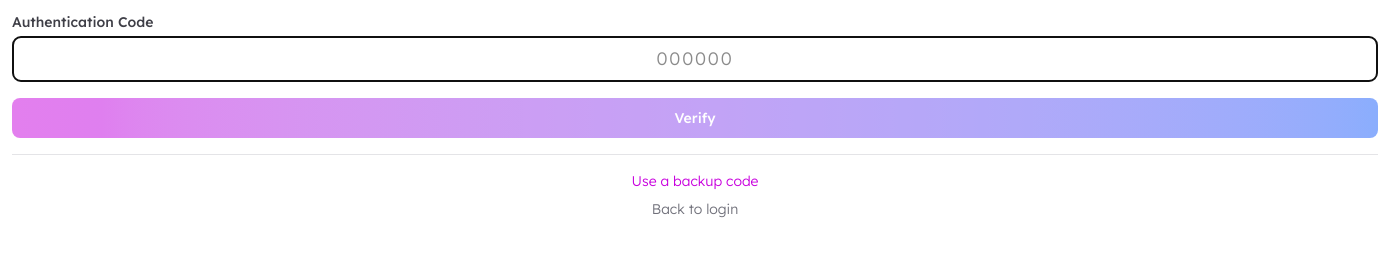
Scenario: TwoFactorForm › switches between modes correctly
Expected: the field with test id "totp-input" is shown, [12,36,1378,82]
Note: Switch to backup
Click the button with test id "switch-to-backup" at (695, 181), box [12,171,1378,191]
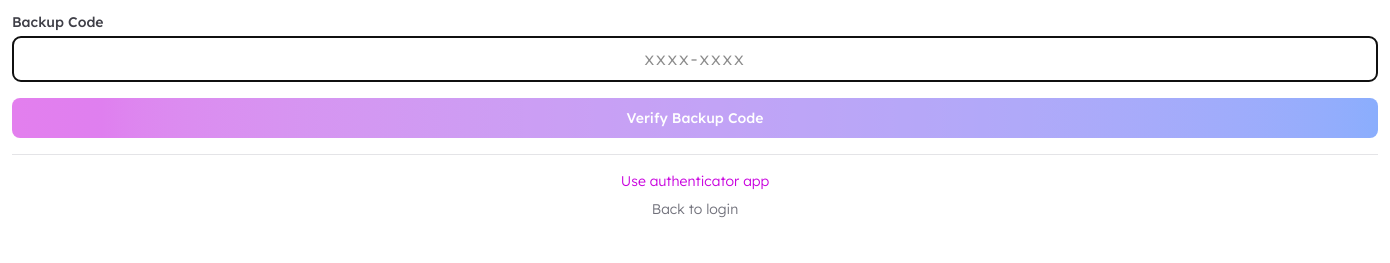
Expected: the field with test id "backup-code-input" is shown, [12,36,1378,82]
Expected: the field with test id "totp-input" is gone
Note: Switch back to TOTP
Click the button with test id "switch-to-totp" at (695, 181), box [12,171,1378,191]
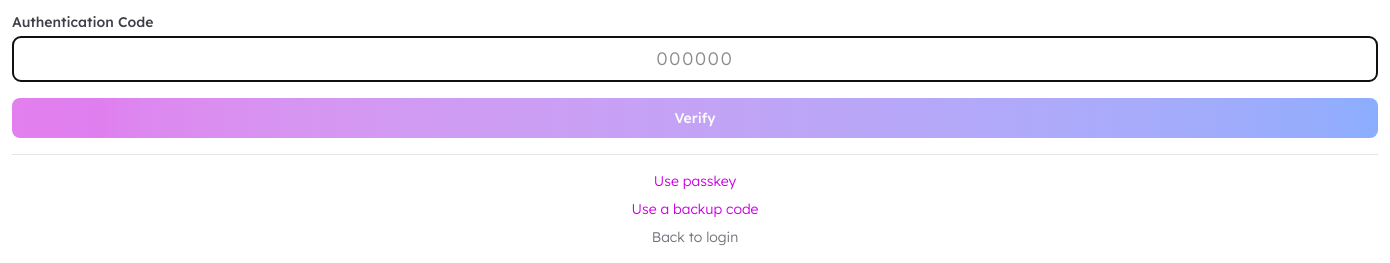
Expected: the field with test id "totp-input" is shown, [12,36,1378,82]
